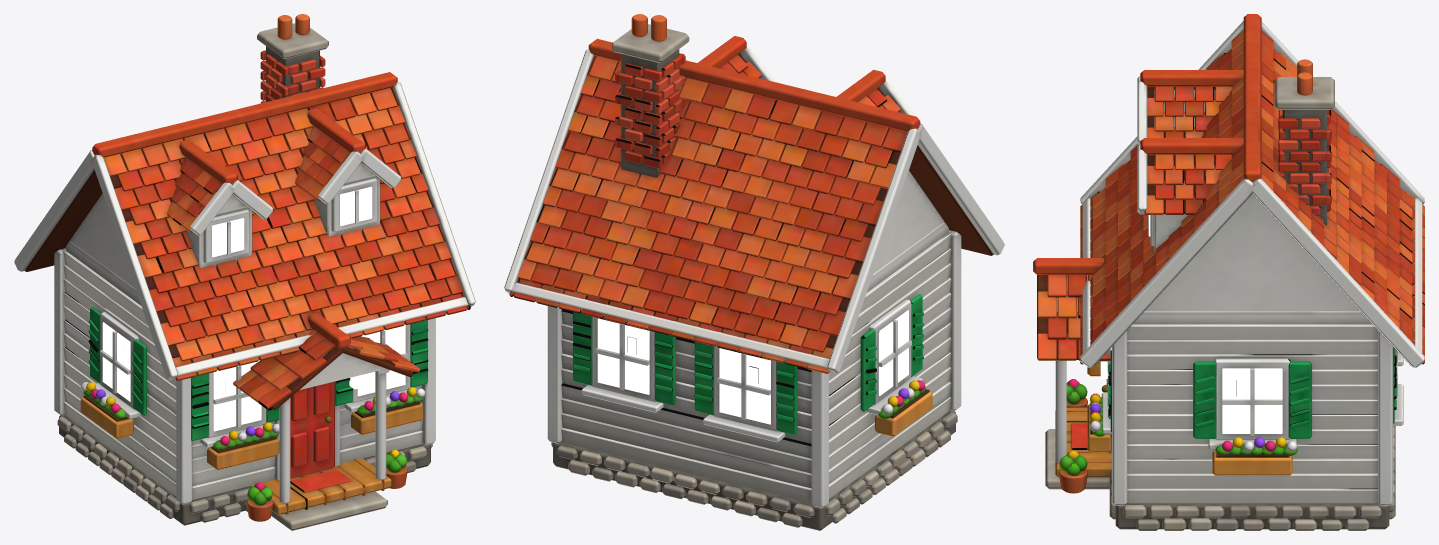
Rendered from farmhouse.glb.
3 renders of one model, left to right at view 1: azimuth 30°, elevation 25°; view 2: azimuth 150°, elevation 25°; view 3: azimuth 270°, elevation 25°, orthographic. The views are drawn at different scales.
Visible parts, largest first — view 1: farmhouse; view 2: farmhouse; view 3: farmhouse.
Part boxes in pixels (left/top/right/bottom): farmhouse: left=14, top=14, right=475, bottom=530; farmhouse: left=504, top=14, right=1004, bottom=530; farmhouse: left=1033, top=14, right=1424, bottom=530.
Size of the model in its own units: 1.91 by 2.39 by 1.95.
Materials: 1 (1 with a texture image).
